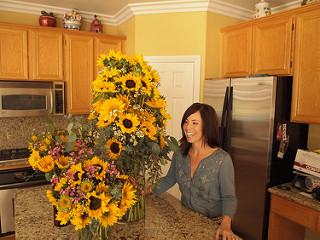sunflower: (98, 97, 125, 120), (85, 193, 109, 217), (116, 109, 137, 132), (120, 182, 139, 207), (119, 74, 142, 94), (86, 157, 107, 177), (105, 135, 121, 157), (35, 156, 54, 172), (74, 208, 90, 227)
